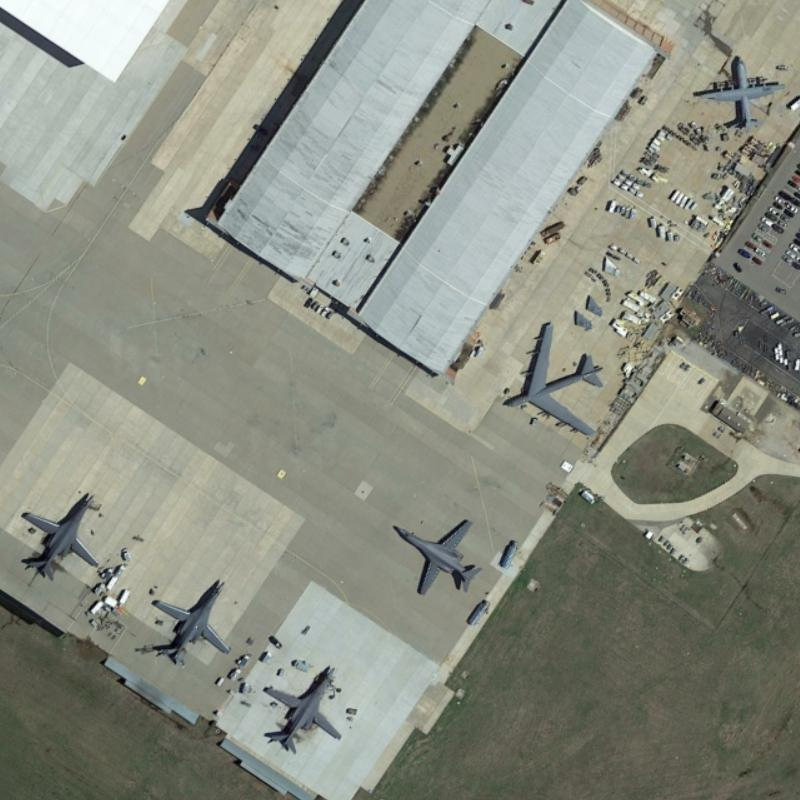A10: (251, 654, 349, 762), (142, 568, 236, 670), (14, 487, 103, 581), (388, 515, 486, 599)
A2: (687, 47, 796, 143)
A8: (492, 309, 614, 449)
